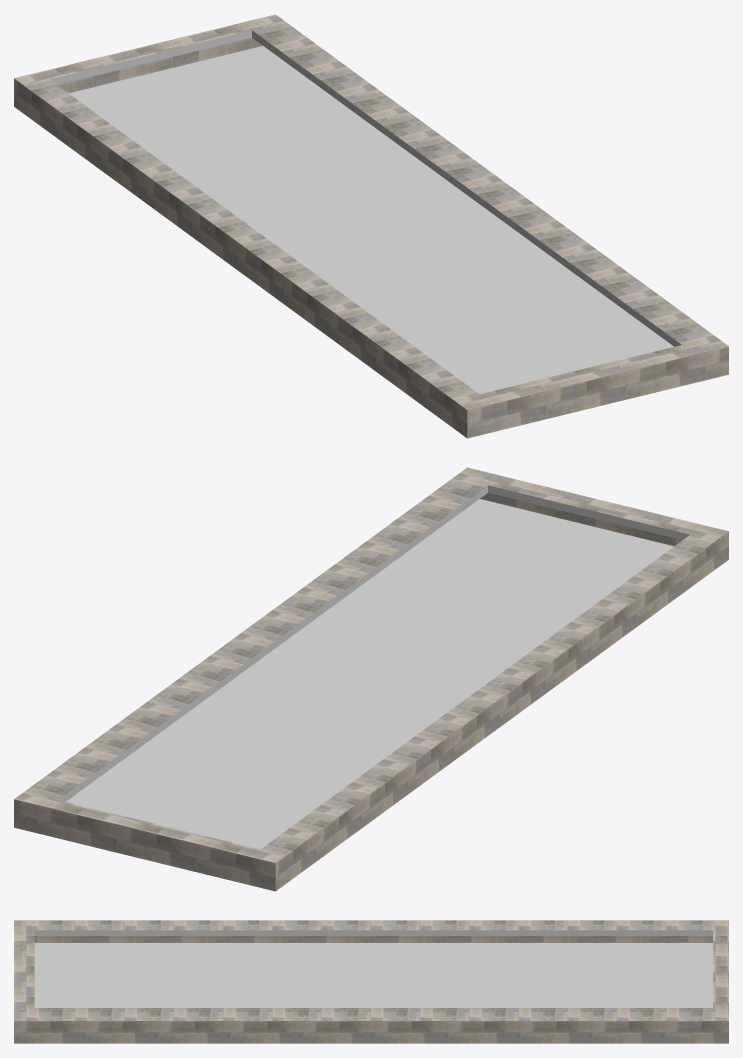
The model's file is estanque.fbx.
The picture shows the model from 3 angles, top to bottom: view 1: azimuth 30°, elevation 25°; view 2: azimuth 150°, elevation 25°; view 3: azimuth 270°, elevation 25°; orthographic projection. The views are drawn at different scales.
Visible parts, largest first — view 1: Model; view 2: Model; view 3: Model.
Boxes of the visible parts, x1,y1,x2,y2 form: Model: (14, 14, 728, 438); Model: (14, 467, 728, 891); Model: (14, 920, 728, 1043).
Bounding box in the file's own units: 155 × 16.06 × 465.
